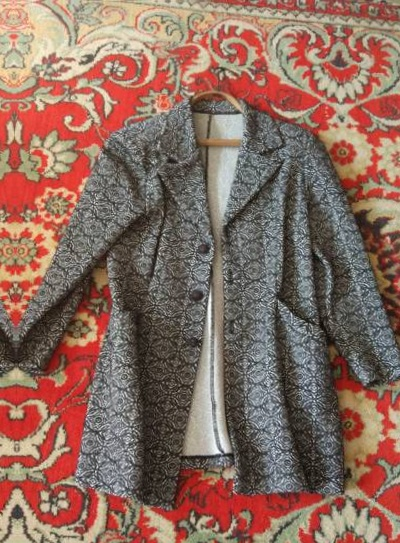Blazer: (17, 83, 399, 528), (0, 86, 14, 531)
